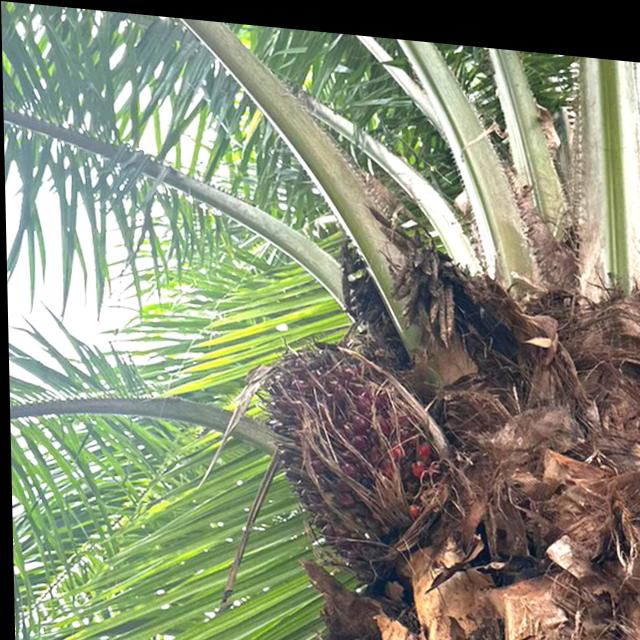ripe: (246, 307, 461, 563)
